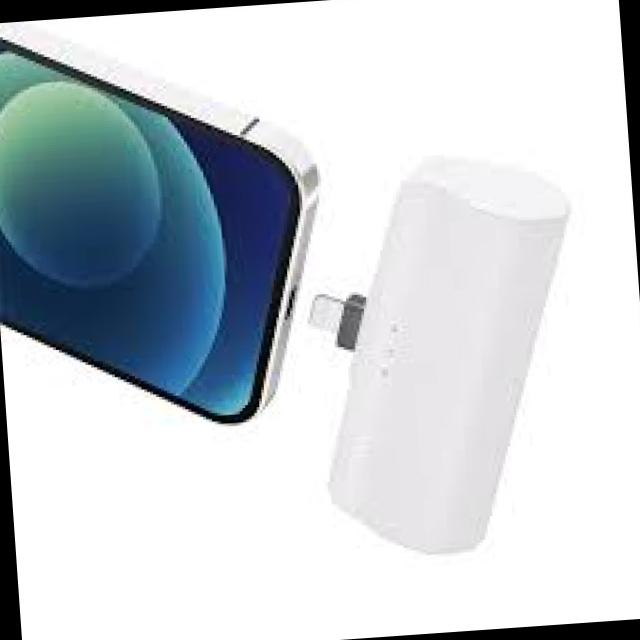portable-charger: (295, 146, 599, 572)
